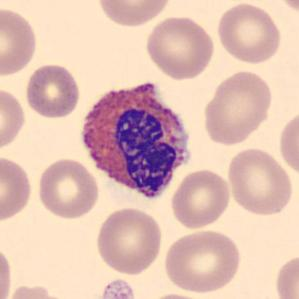Eosinophil: (75, 74, 199, 208), (62, 274, 163, 299)
RBC: (200, 67, 275, 147), (162, 227, 244, 294), (224, 145, 295, 218), (93, 205, 164, 276), (143, 14, 217, 81), (214, 1, 284, 65), (35, 156, 101, 221), (168, 167, 232, 231), (23, 62, 82, 120), (0, 5, 40, 78), (0, 154, 34, 224), (94, 0, 174, 28), (0, 85, 28, 153), (277, 107, 298, 180), (272, 252, 298, 299), (5, 282, 70, 299), (0, 244, 14, 299), (140, 291, 208, 299), (272, 0, 298, 15)
